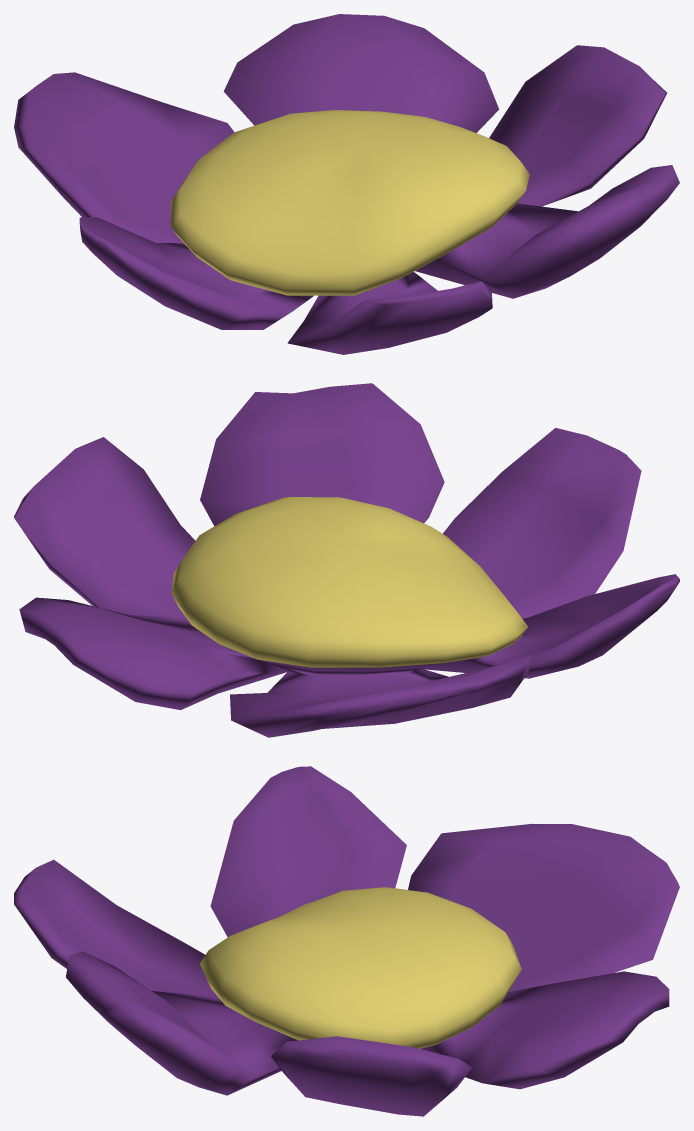
File: flower.fbx
The picture shows the model from 3 angles, top to bottom: view 1: azimuth 30°, elevation 25°; view 2: azimuth 150°, elevation 25°; view 3: azimuth 270°, elevation 25°; orthographic projection. The views are drawn at different scales.
Parts seen in each view (by area): view 1: flower; view 2: flower; view 3: flower.
Boxes of the visible parts, x1,y1,x2,y2 form: flower: (14, 14, 679, 354); flower: (14, 383, 679, 737); flower: (14, 766, 679, 1116).
Size of the model in its own units: 277 by 65.32 by 274.
